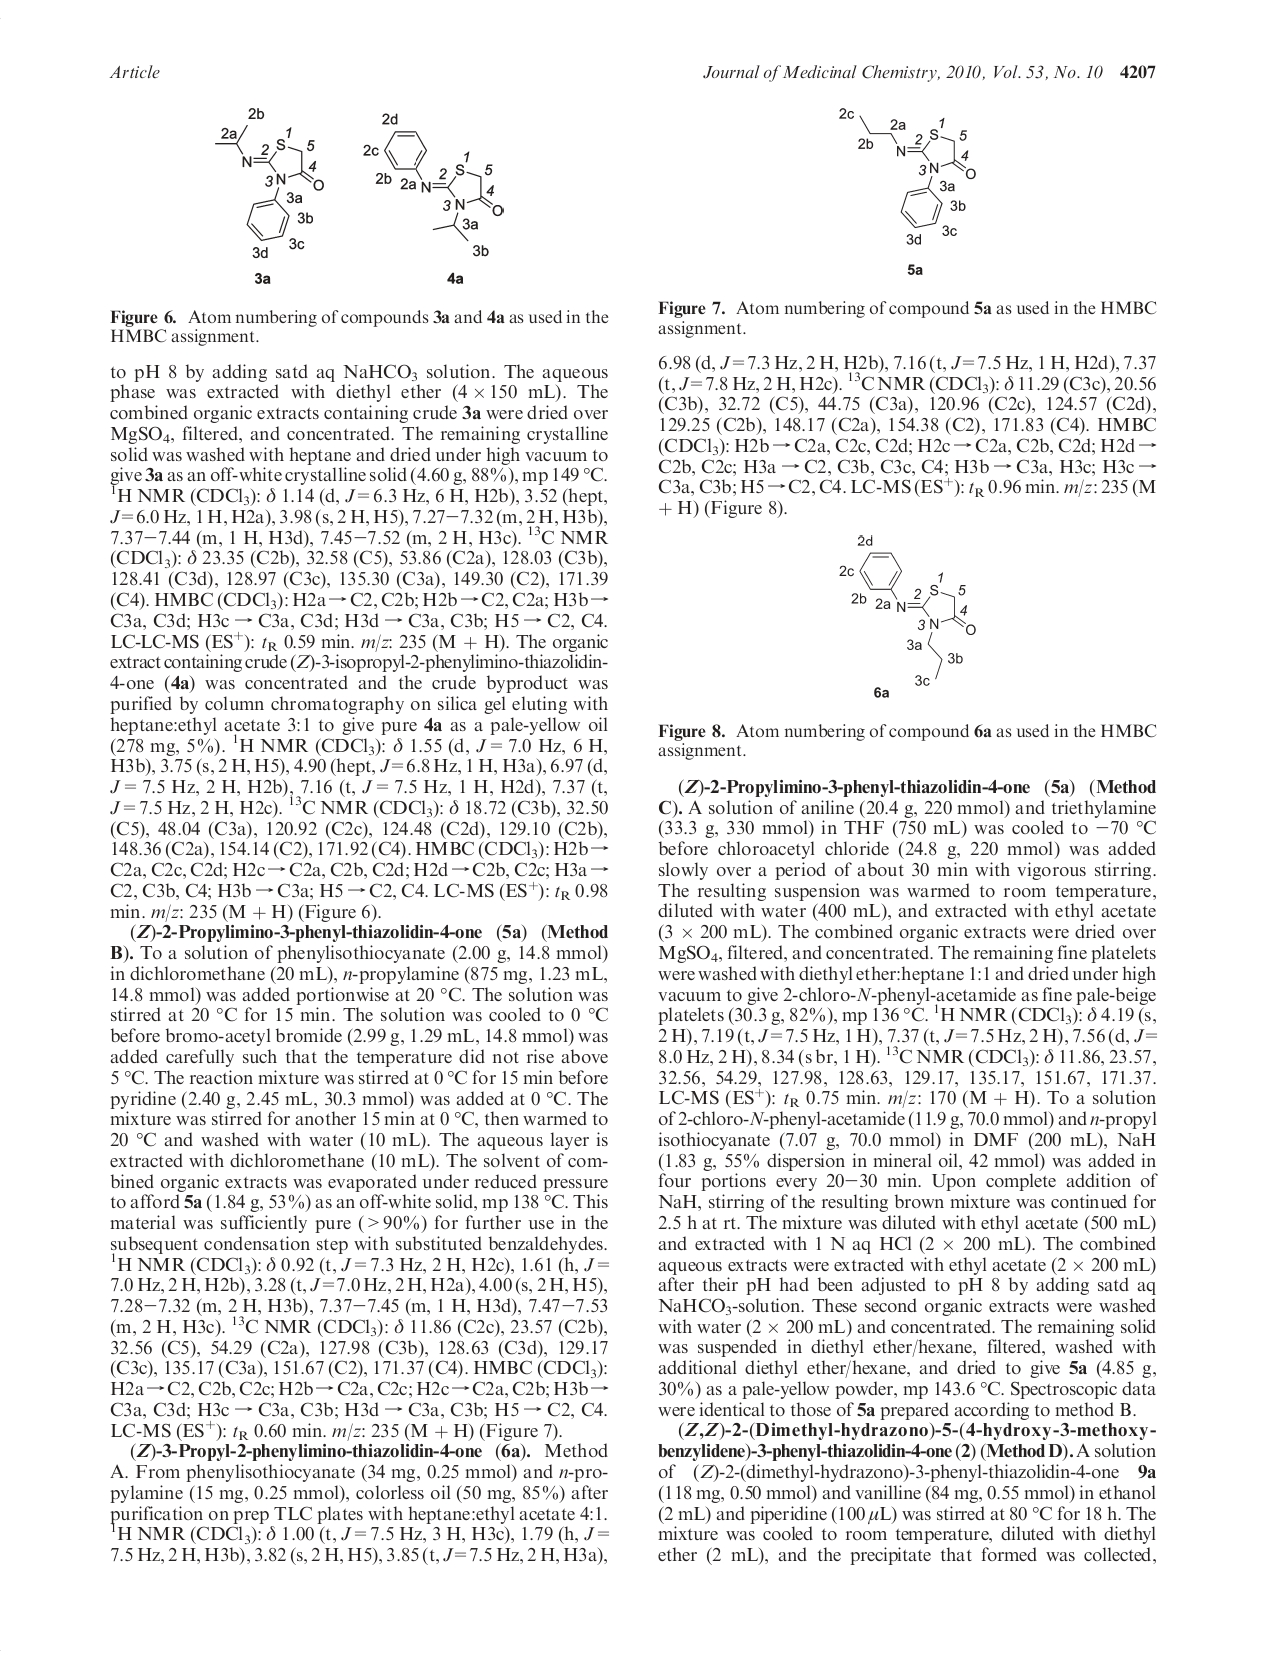exist_molecular: (209, 102, 332, 267), (859, 549, 977, 684), (382, 134, 515, 243), (859, 112, 975, 231)
